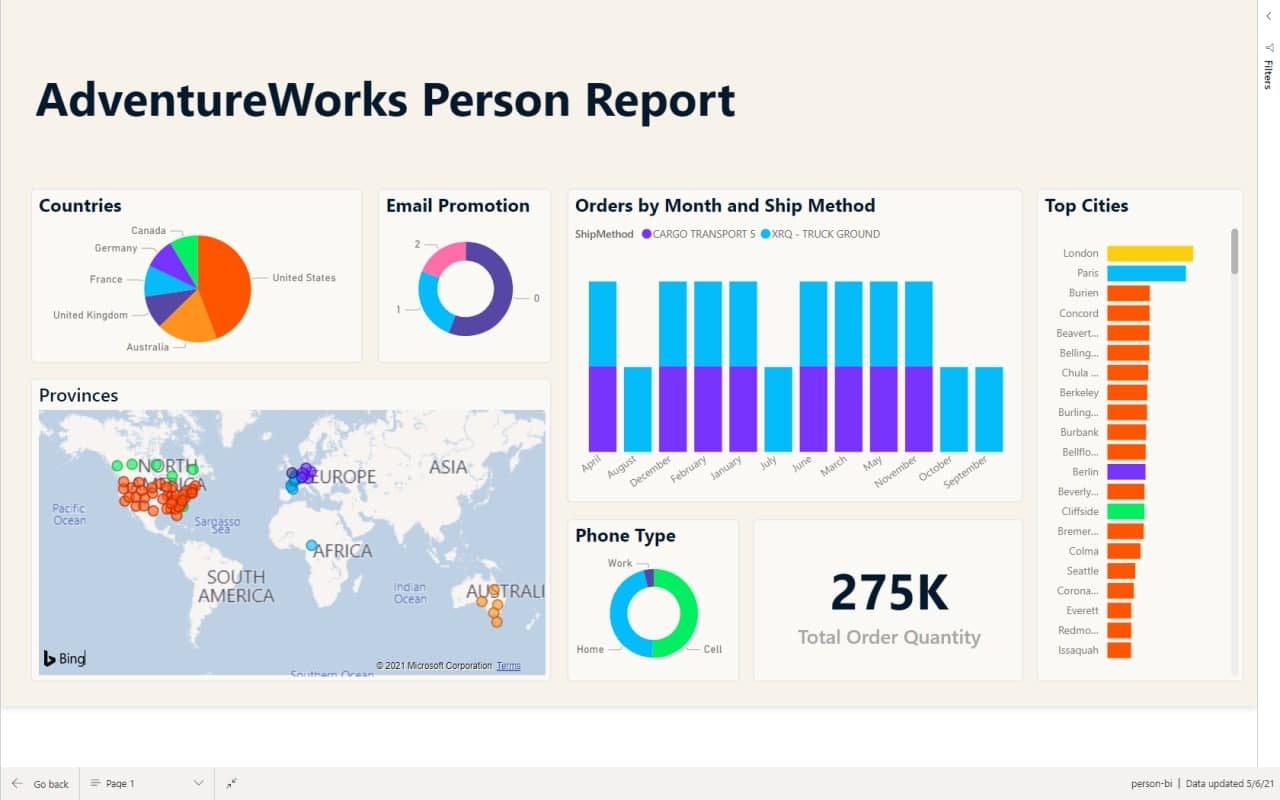

This screenshot's page, from the dashboard's own definition file:
{"tool":"powerbi","page":{"name":"Main","canvas":[1280,720],"ordinal":0},"visuals":[{"type":"donutChart","title":"Email Promotion","fields":{"Y":["CountNonNull(PersonDim.BusinessEntityID)"],"Category":["PersonDim.EmailPromotion"]},"box":[384,192,176,176],"z":0},{"type":"pieChart","title":"Countries","fields":{"Y":["CountNonNull(AddressDim.AddressID)"],"Category":["AddressDim.CountryRegionName"]},"box":[16,192,352,176],"z":1000},{"type":"map","title":"Provinces","fields":{"Category":["AddressDim.StateProvinceName"],"Series":["AddressDim.CountryRegionName"]},"box":[16,384,544,320],"z":2000},{"type":"columnChart","title":"Ship Method by Month","fields":{"Category":["DateDim.MonthName"],"Series":["SalesOrderDim.ShipMethod"],"Y":["CountNonNull(Facts.SalesOrderID)"]},"box":[576,192,464,320],"z":3000},{"type":"textbox","box":[16,16,832,80],"z":4000},{"type":"donutChart","title":"Phone Type","fields":{"Category":["PersonDim.PhoneNumberType"],"Y":["CountNonNull(PersonDim.BusinessEntityID)"]},"box":[576,528,176,176],"z":5000},{"type":"barChart","title":"Top Cities","fields":{"Category":["AddressDim.City"],"Y":["CountNonNull(AddressDim.AddressID)"],"Series":["AddressDim.CountryRegionName"]},"box":[1056,192,208,512],"z":6000},{"type":"card","title":"Order Quantity","fields":{"Values":["Sum(SalesOrderDim.OrderQty)"]},"box":[768,528,272,176],"z":7000},{"type":"slicer","title":"Countries","fields":{"Values":["AddressDim.CountryRegionName"]},"box":[16,96,160,64],"z":8000},{"type":"slicer","title":"Countries","fields":{"Values":["SalesOrderDim.ShipBase"]},"box":[192,96,176,64],"z":9000},{"type":"actionButton","box":[1216,32,32,32],"z":10000},{"type":"actionButton","box":[1168,32,32,32],"z":11000}]}

Visuals, with their boxes on the page's 1280x720 design canvas (x1, y1, x2, y2). These are canvas units, not pixel positions in the 1280x800 screenshot, which may show the page scaled, cropped or inside an application window:
"Email Promotion" donutChart: [left=384, top=192, right=560, bottom=368]
"Countries" pieChart: [left=16, top=192, right=368, bottom=368]
"Provinces" map: [left=16, top=384, right=560, bottom=704]
"Ship Method by Month" columnChart: [left=576, top=192, right=1040, bottom=512]
textbox: [left=16, top=16, right=848, bottom=96]
"Phone Type" donutChart: [left=576, top=528, right=752, bottom=704]
"Top Cities" barChart: [left=1056, top=192, right=1264, bottom=704]
"Order Quantity" card: [left=768, top=528, right=1040, bottom=704]
"Countries" slicer: [left=16, top=96, right=176, bottom=160]
"Countries" slicer: [left=192, top=96, right=368, bottom=160]
actionButton: [left=1216, top=32, right=1248, bottom=64]
actionButton: [left=1168, top=32, right=1200, bottom=64]
